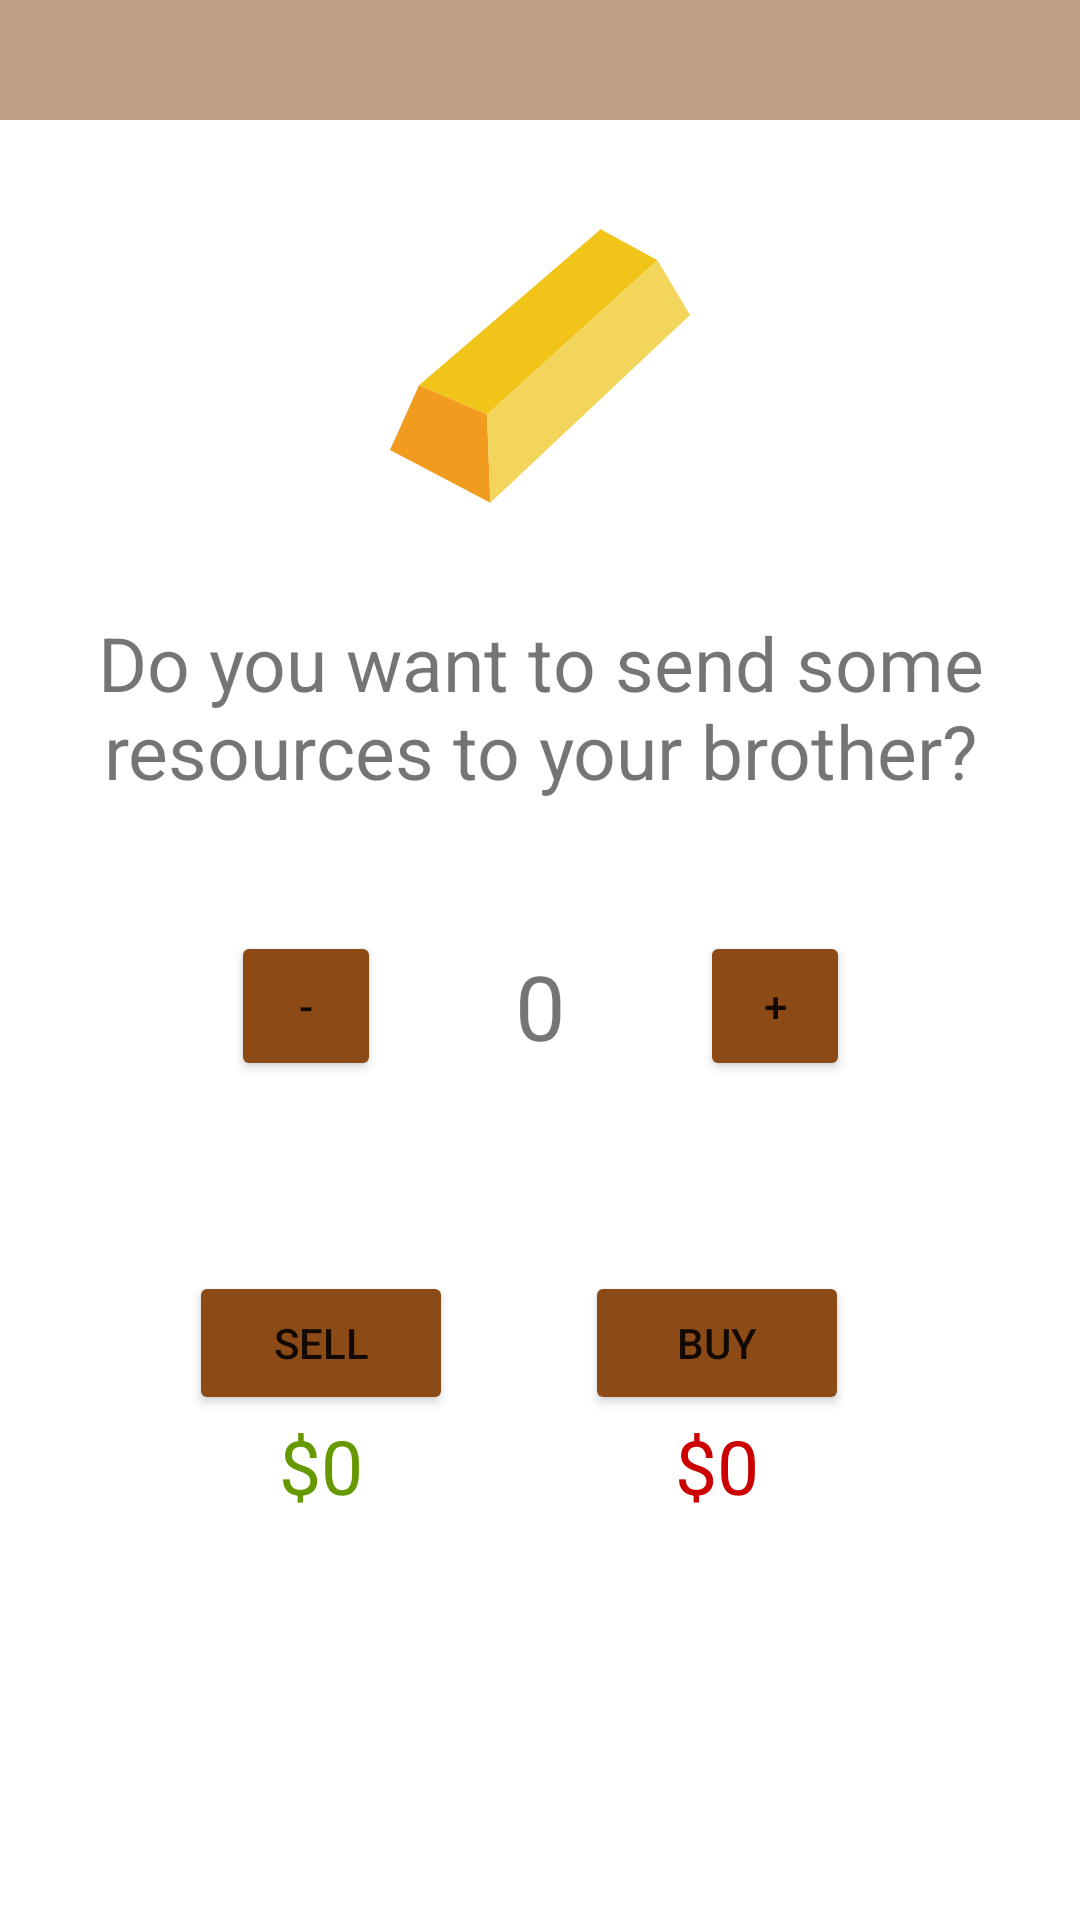

Where icons sit on this 1080px x 1920px app screen, as (x1, y1, x2, y2):
ingot: (390, 229, 690, 503)
